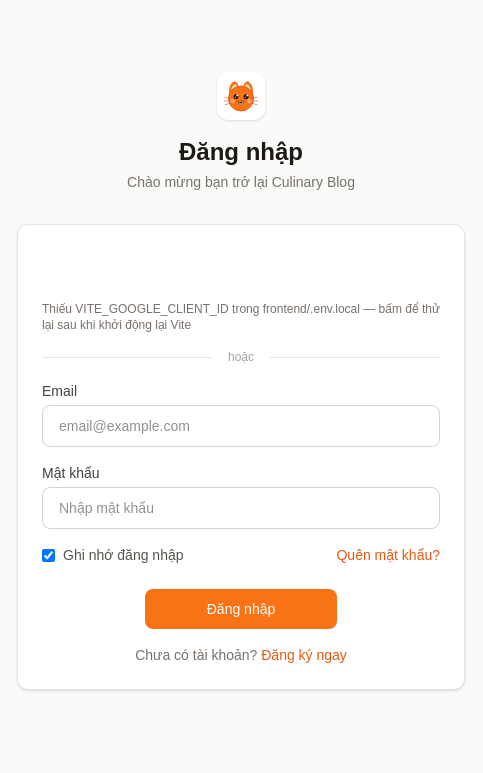
Scenario: LoginPage — showcase #login-2-error---invalid-credentials › clears the error banner once the user edits a field
This screenshot has width=483, height=773.
Type "an@example.com" into the field labelled "Email". click: {"x": 241, "y": 426}
box: [42,405,440,447]
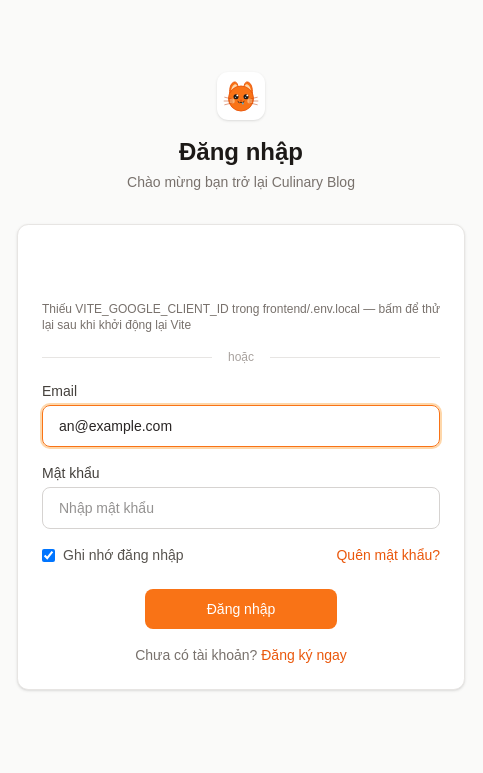
Type "Secret1!" into the password field labelled "Mật khẩu". click: {"x": 241, "y": 508}
box: [42,487,440,529]
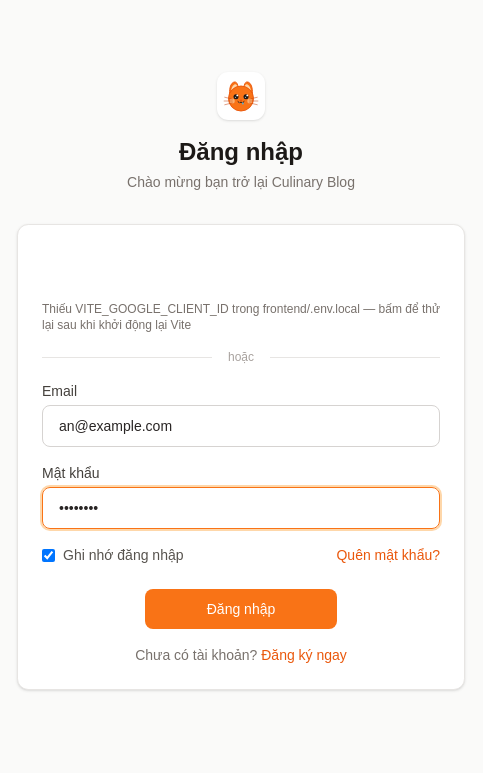
Click the button "Đăng nhập". click: {"x": 241, "y": 609}
box: [145,589,337,629]
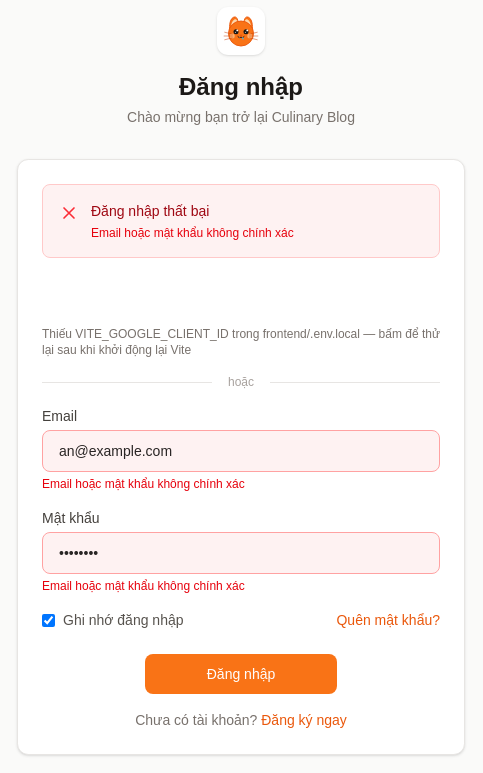
Now the message "Đăng nhập thất bại Email hoặc mật khẩu không chính xác" is shown, box [42,184,440,258]
Type "x" into the field labelled "Email". click: {"x": 241, "y": 451}
box: [42,430,440,472]
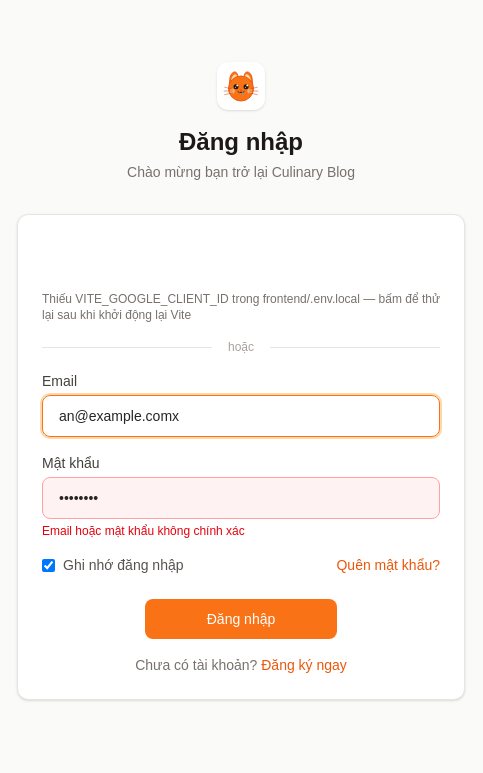
Now the message "Đăng nhập thất bại Email hoặc mật khẩu không chính xác" is gone
